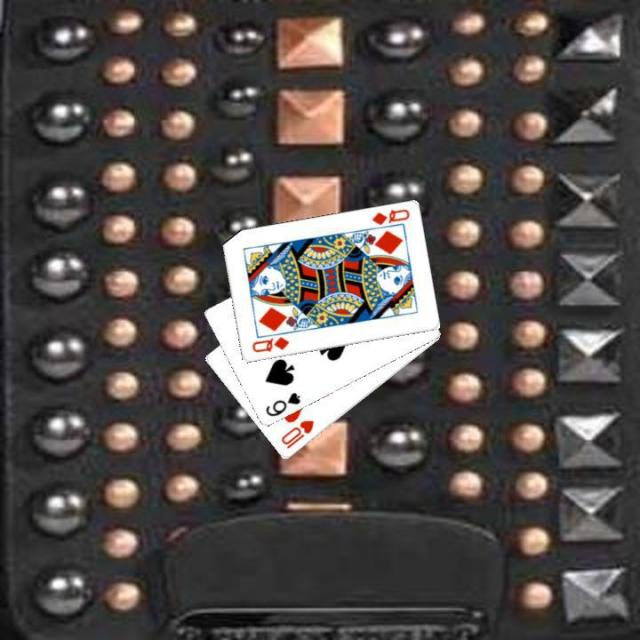10H: (278, 416, 316, 451)
6S: (262, 388, 302, 418)
QD: (368, 205, 412, 228), (248, 333, 291, 355)
